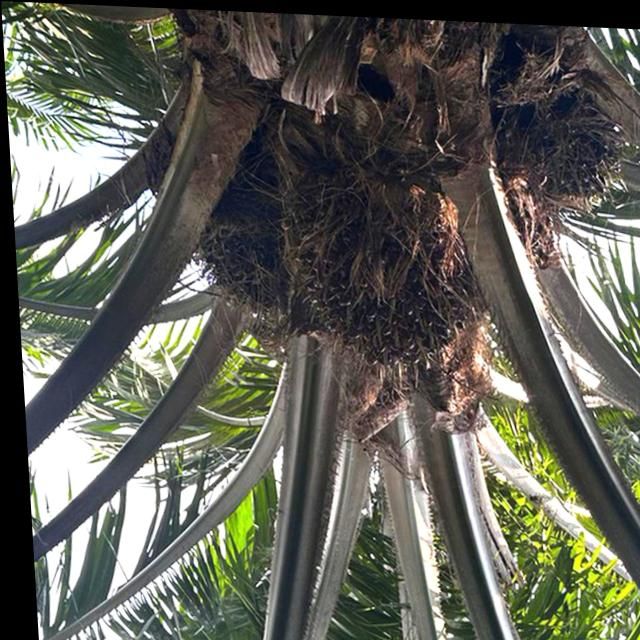unripe: (259, 137, 499, 390), (154, 149, 322, 348), (463, 35, 636, 227)
